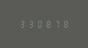eight: (45, 20, 53, 28), (63, 20, 71, 28)
seven: (54, 20, 62, 28)
three: (17, 20, 25, 28), (26, 20, 34, 28)
zero: (36, 20, 44, 28)
